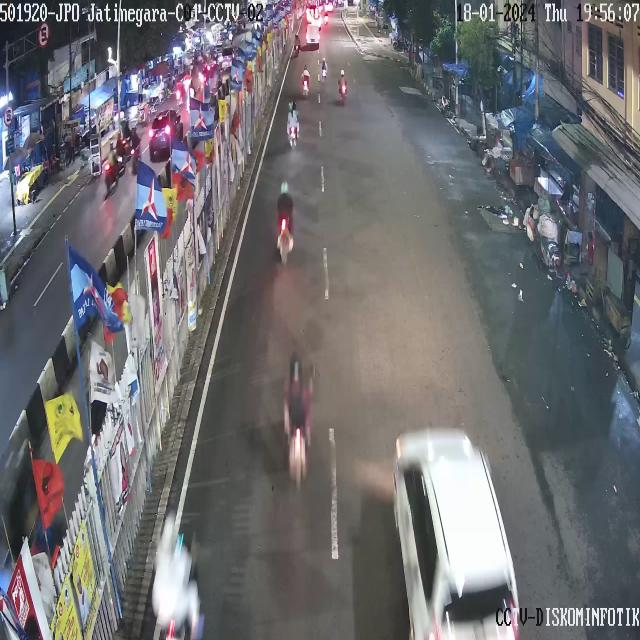Payung: (2, 146, 25, 168), (25, 131, 48, 148)
Terpal: (83, 84, 110, 111), (118, 59, 131, 108)
